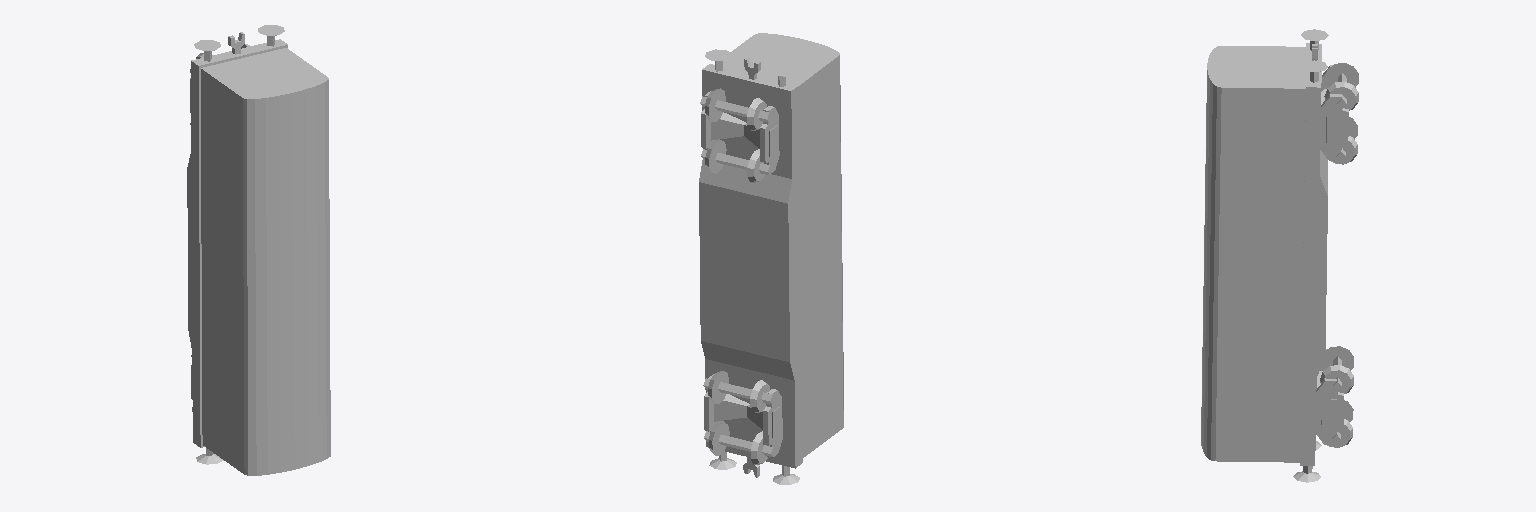
Rendered from vagon14_1.obj.
The picture shows the model from 3 angles: view 1: azimuth 30°, elevation 25°; view 2: azimuth 150°, elevation 25°; view 3: azimuth 270°, elevation 25°; orthographic projection.
Parts seen in each view (by area): view 1: material4_Shape_IndexedFaceSet, material2_Shape_IndexedFaceSet, material1_Shape_IndexedFaceSet; view 2: material2_Shape_IndexedFaceSet, material4_Shape_IndexedFaceSet, material_Shape_IndexedFaceSet, material1_Shape_IndexedFaceSet; view 3: material4_Shape_IndexedFaceSet, material2_Shape_IndexedFaceSet, material_Shape_IndexedFaceSet, material1_Shape_IndexedFaceSet.
Part boxes in pixels (x1,y1,x2,y2): material4_Shape_IndexedFaceSet: (201, 48, 330, 475); material2_Shape_IndexedFaceSet: (187, 39, 287, 447); material1_Shape_IndexedFaceSet: (194, 25, 284, 464); material2_Shape_IndexedFaceSet: (699, 64, 802, 468); material4_Shape_IndexedFaceSet: (723, 33, 843, 457); material_Shape_IndexedFaceSet: (700, 88, 780, 464); material1_Shape_IndexedFaceSet: (705, 49, 799, 484); material4_Shape_IndexedFaceSet: (1201, 46, 1305, 462); material2_Shape_IndexedFaceSet: (1300, 43, 1348, 465); material_Shape_IndexedFaceSet: (1317, 63, 1358, 447); material1_Shape_IndexedFaceSet: (1293, 29, 1328, 482).
Bounding box in the file's own units: 4.88 × 21.52 × 7.37.